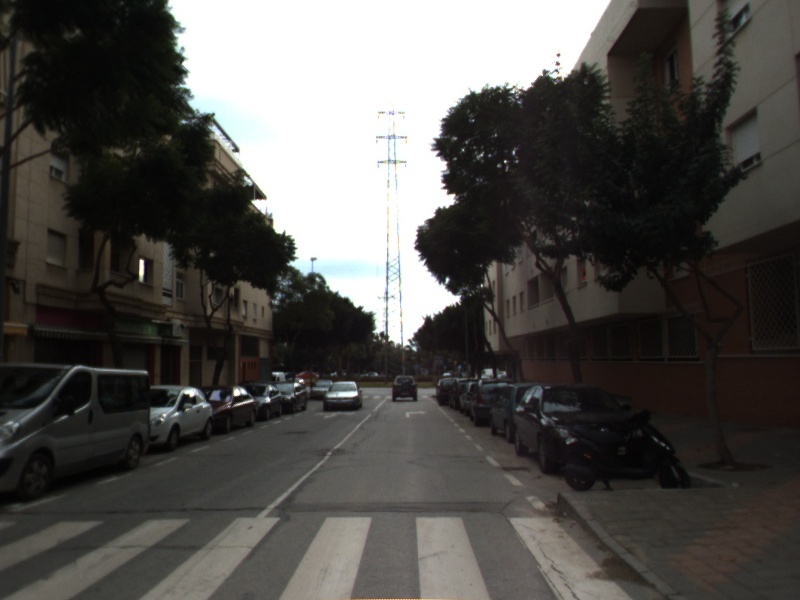RIGHT: (403, 408, 429, 419)
